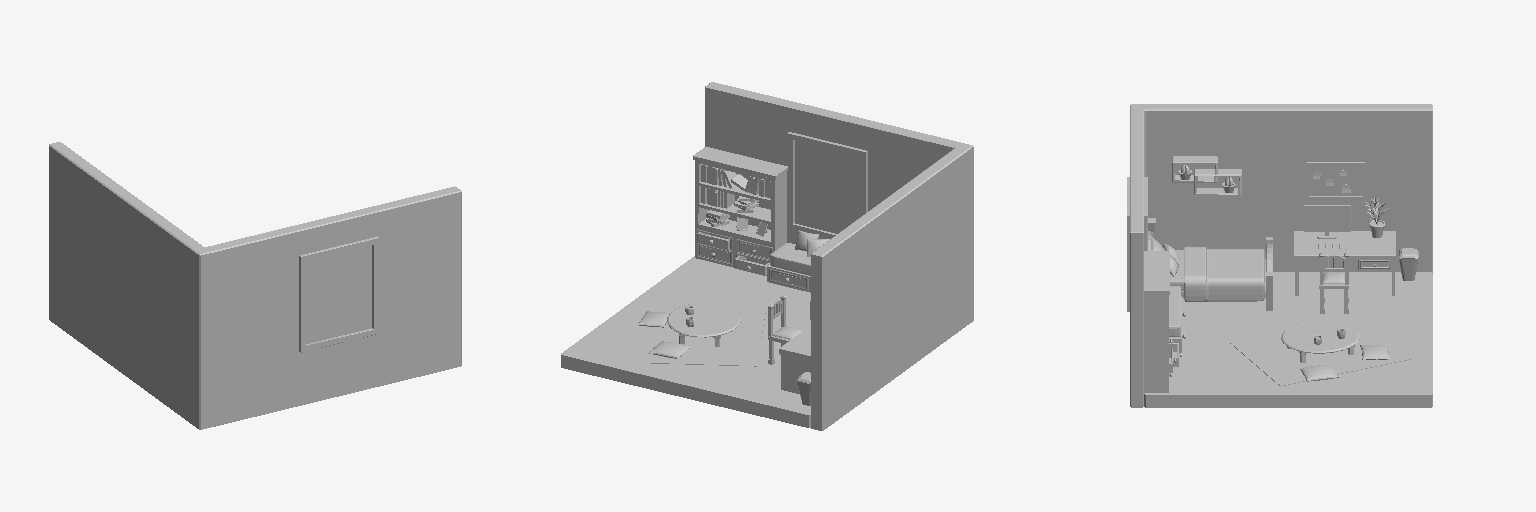
Rendered from Another bedroom.obj.
3 views of the same model, side by side, from view 1: azimuth 30°, elevation 25°; view 2: azimuth 150°, elevation 25°; view 3: azimuth 270°, elevation 25° (orthographic).
Visible parts, largest first — view 1: Wall_Cube.003, Window_Cube.004; view 2: Wall_Cube.003, Floor_Cube.001, Bookshelf_Cube.016, Carpet_Plane, Window_Cube.004, Coffe_table_Cube.024, Sofa_Cube.008, Table_Cube.017, Book.001_Cube.022, Chair_Cube.052; view 3: Wall_Cube.003, Floor_Cube.001, Bed_Cube.011, Carpet_Plane, Bookshelf_Cube.016, Table_Cube.017, Board_Cube.050, Coffe_table_Cube.024, Wallshelf_Cube.002, PC_Cube.021, Chair_Cube.052, Sofa_Cube.008 (+3 smaller).
Part boxes in pixels (bbox=[...]): Wall_Cube.003: bbox=[49, 142, 461, 429]; Window_Cube.004: bbox=[299, 236, 378, 352]; Wall_Cube.003: bbox=[705, 82, 973, 430]; Floor_Cube.001: bbox=[561, 256, 810, 427]; Bookshelf_Cube.016: bbox=[693, 147, 787, 275]; Carpet_Plane: bbox=[642, 301, 766, 366]; Window_Cube.004: bbox=[788, 132, 867, 238]; Coffe_table_Cube.024: bbox=[667, 303, 740, 346]; Sofa_Cube.008: bbox=[767, 243, 810, 292]; Table_Cube.017: bbox=[779, 325, 810, 393]; Book.001_Cube.022: bbox=[701, 164, 770, 198]; Chair_Cube.052: bbox=[768, 295, 803, 364]; Wall_Cube.003: bbox=[1130, 104, 1432, 407]; Floor_Cube.001: bbox=[1144, 272, 1432, 407]; Bed_Cube.011: bbox=[1170, 246, 1264, 301]; Carpet_Plane: bbox=[1230, 316, 1410, 386]; Bookshelf_Cube.016: bbox=[1144, 251, 1181, 392]; Table_Cube.017: bbox=[1294, 231, 1395, 295]; Board_Cube.050: bbox=[1307, 162, 1364, 198]; Coffe_table_Cube.024: bbox=[1281, 321, 1359, 362]; Wallshelf_Cube.002: bbox=[1172, 156, 1241, 195]; PC_Cube.021: bbox=[1304, 205, 1350, 238]; Chair_Cube.052: bbox=[1319, 253, 1348, 313]; Sofa_Cube.008: bbox=[1169, 286, 1185, 353].
Size of the model in its own units: 8.4 by 5.37 by 8.49.